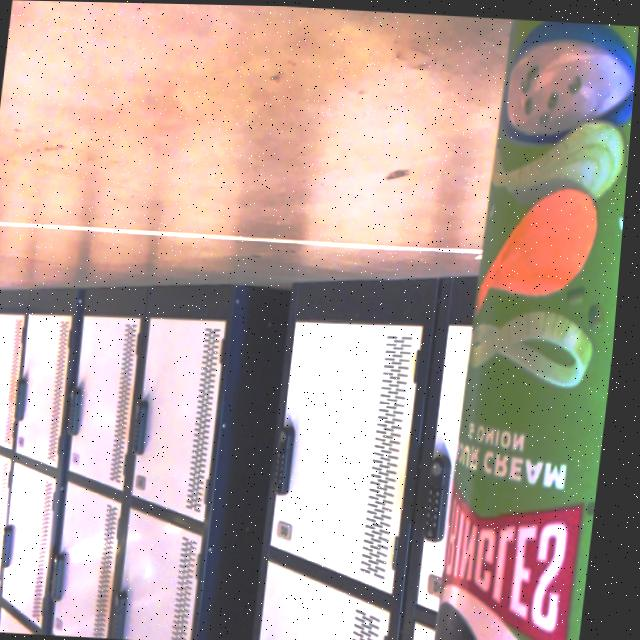greenpringles: (411, 13, 640, 640)
